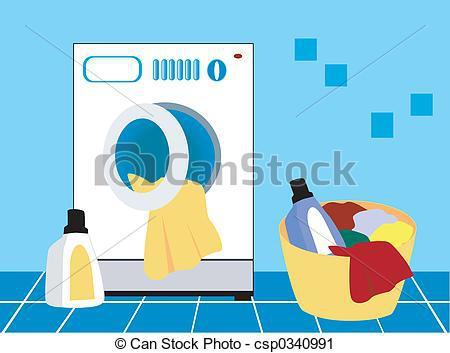bottle: (41, 206, 109, 311), (278, 178, 350, 258)
